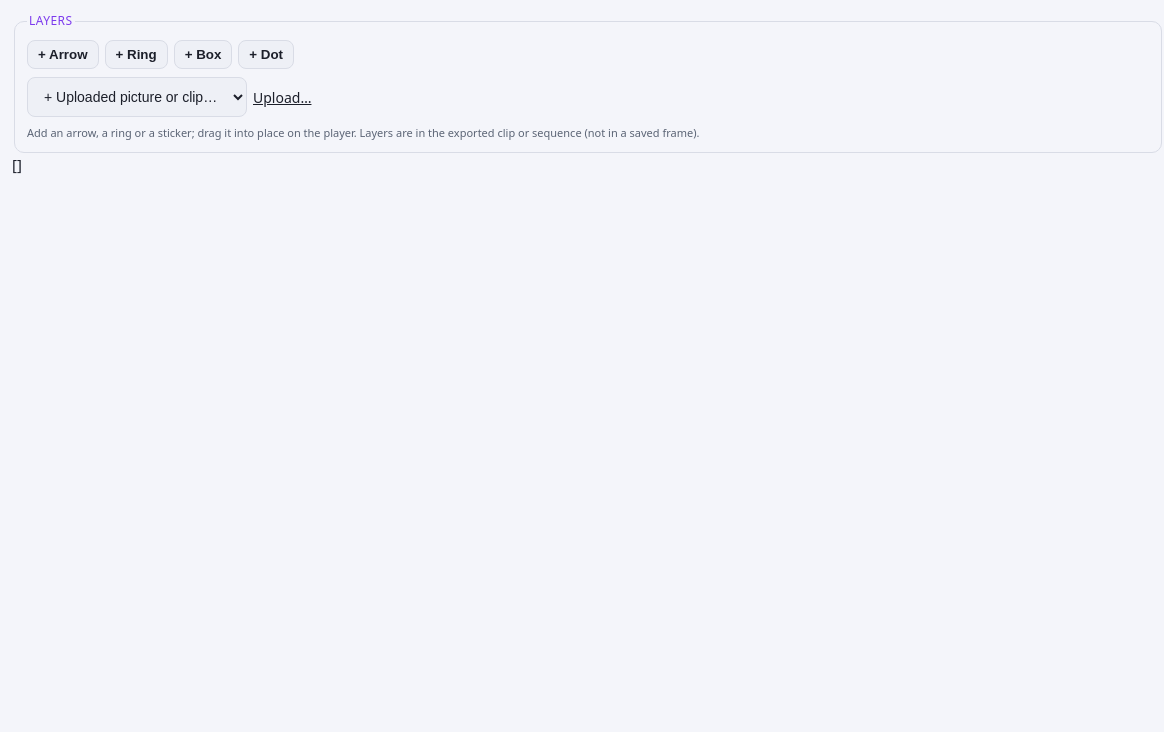
Test case: Layers box › adds a shape where the playhead is and selects it
Step 1. Click the button "+ Arrow" → (63, 54), box [27, 40, 98, 69]
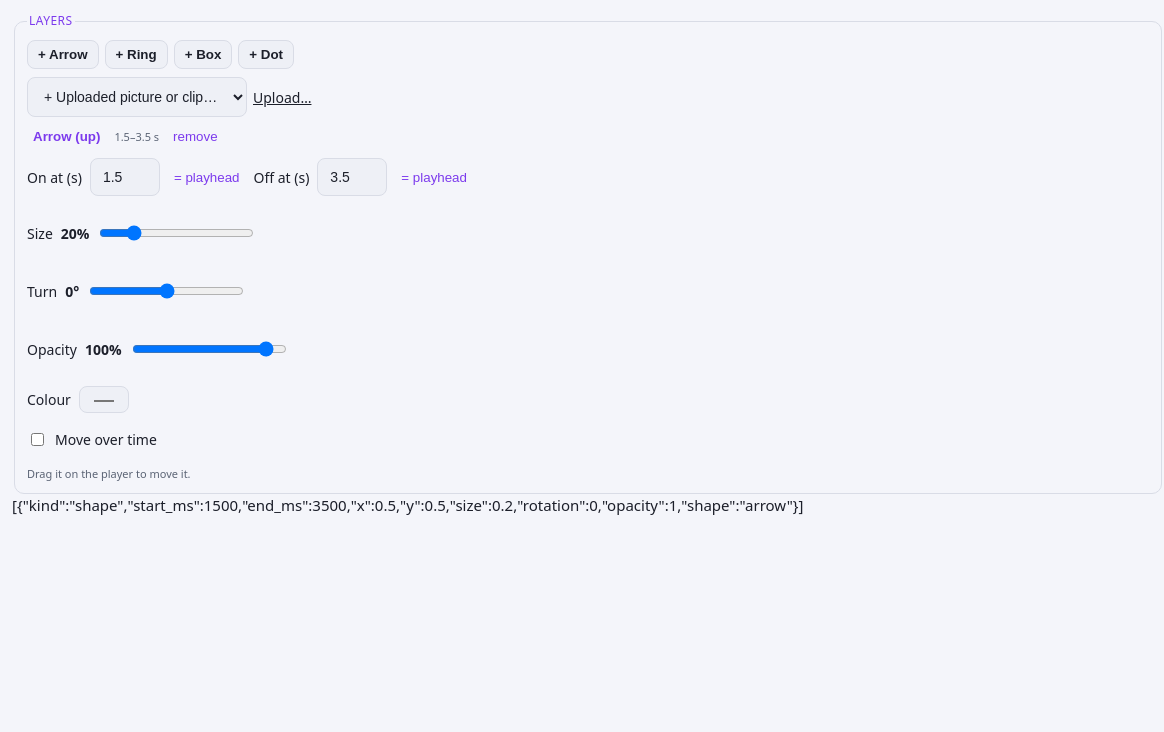
Now the text "Size 20%" is shown, box [27, 214, 254, 252]
Now the text "Drag it on the player to move it." is shown, box [27, 466, 191, 481]
